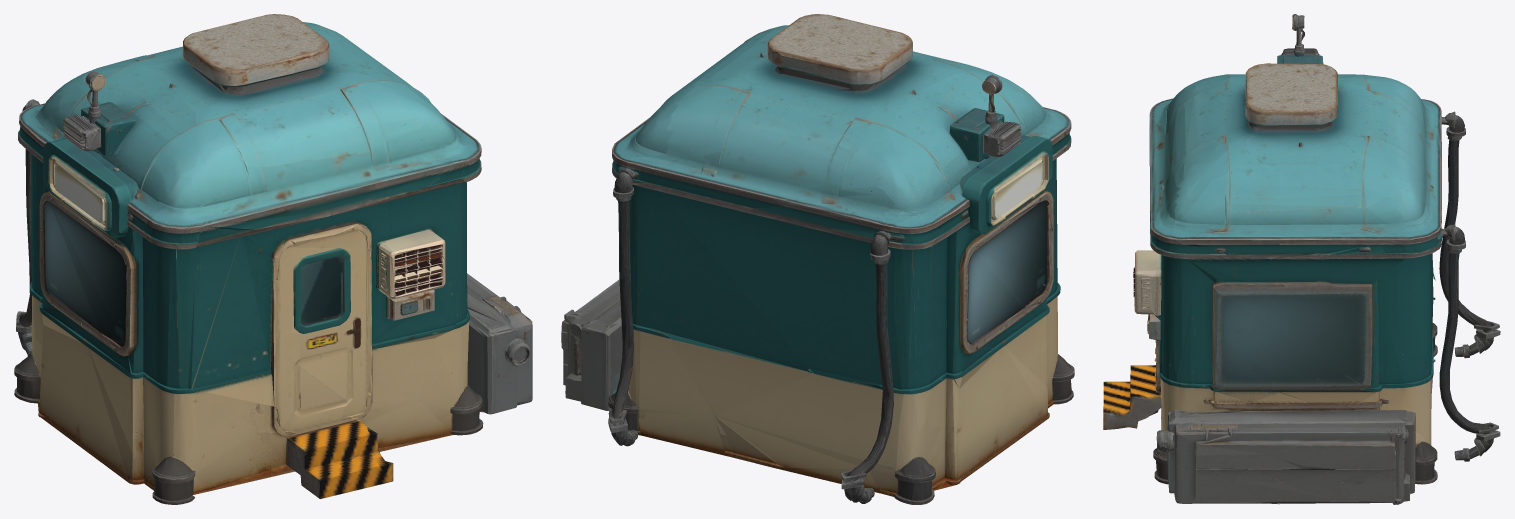
File: control_hut.glb
3 renders of one model, left to right at view 1: azimuth 30°, elevation 25°; view 2: azimuth 150°, elevation 25°; view 3: azimuth 270°, elevation 25°, orthographic. The views are drawn at different scales.
Visible parts, largest first — view 1: Mesh_0; view 2: Mesh_0; view 3: Mesh_0.
Part boxes in pixels (bbox=[...]): Mesh_0: bbox=[14, 14, 532, 504]; Mesh_0: bbox=[561, 14, 1074, 504]; Mesh_0: bbox=[1103, 14, 1500, 504].
Bounding box in the file's own units: 1.9 × 1.69 × 1.82.
Materials: 1 (1 with a texture image).
